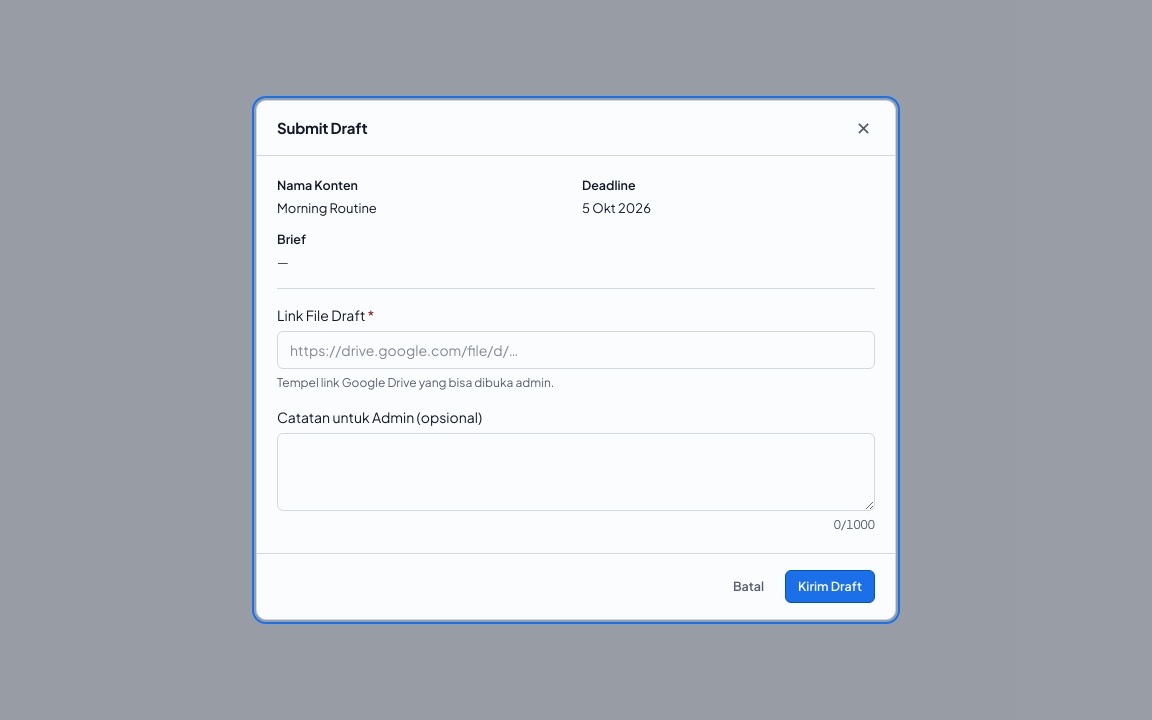
Scenario: SubmitDraftModal › prevents duplicate submission while the request is pending
Step 1. Type "https://drive.google.com/file/d/example" into the field labelled "Link File Draft" → point(576, 350), box x1=277 y1=331 x2=875 y2=369
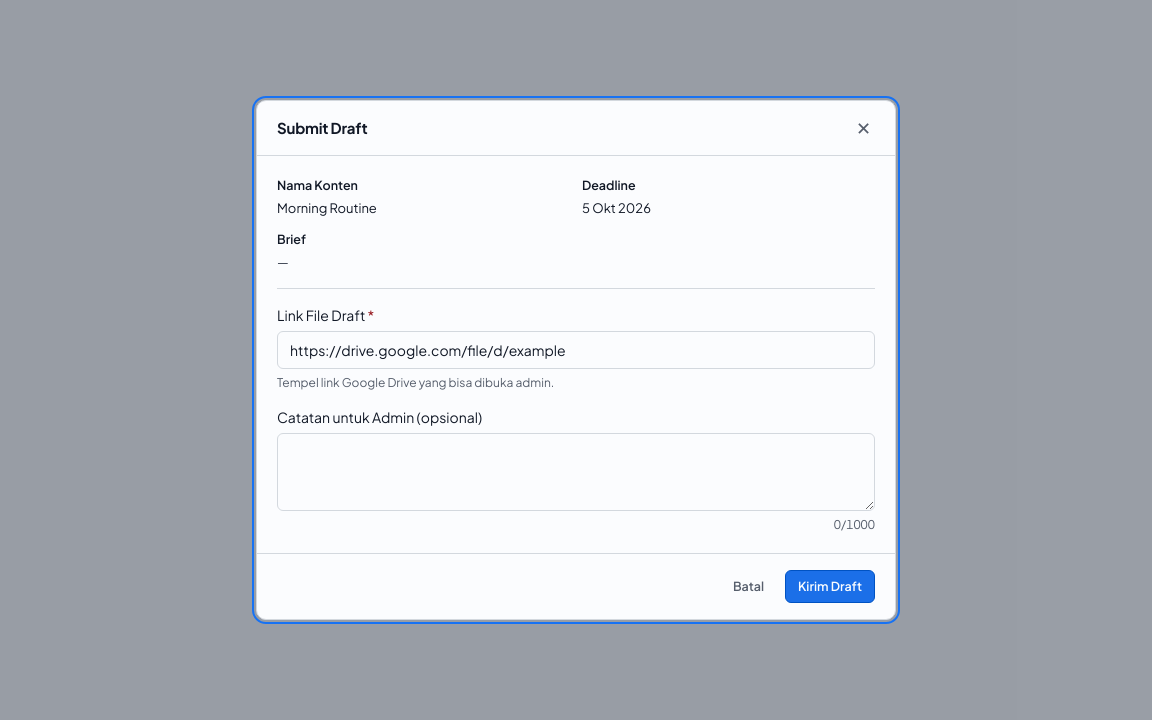
Step 2. Click the button "Kirim Draft" → point(830, 587), box x1=785 y1=570 x2=875 y2=603
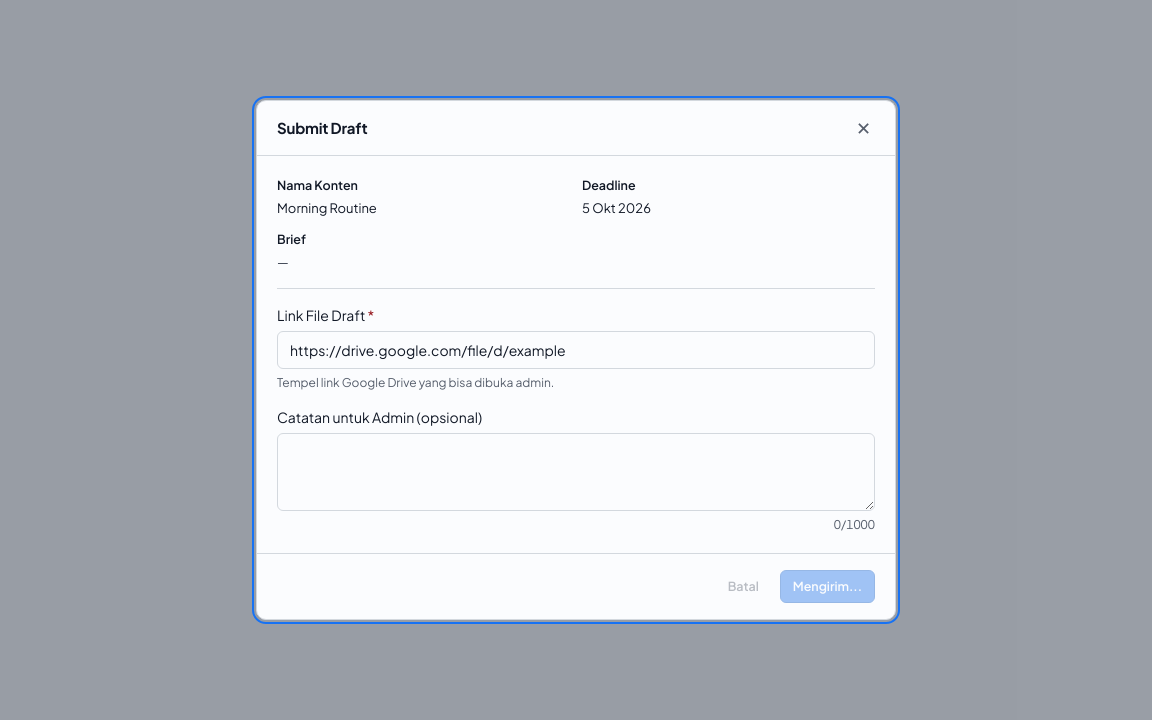
Expected: the button "Mengirim..." is disabled
Note: Attempting another click must not create a second request.
Step 3. Click the button "Mengirim..." → point(827, 587), box x1=780 y1=570 x2=875 y2=603
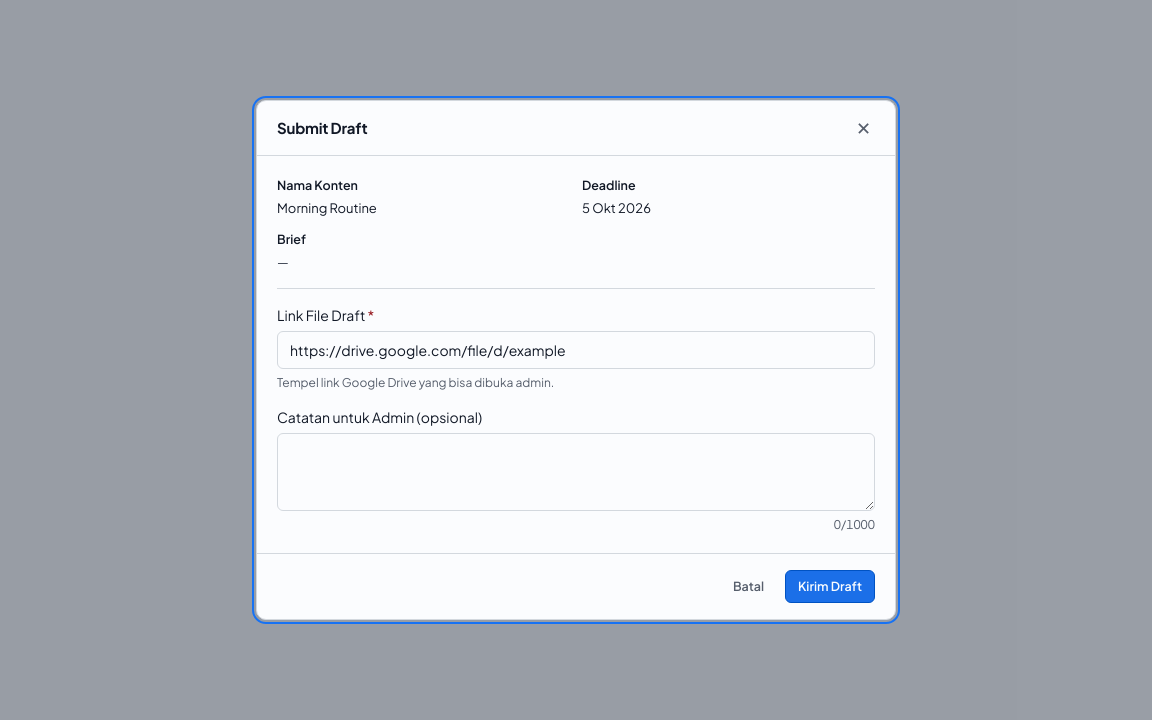
Expected: the button "Kirim Draft" is enabled, x1=785 y1=570 x2=875 y2=603
